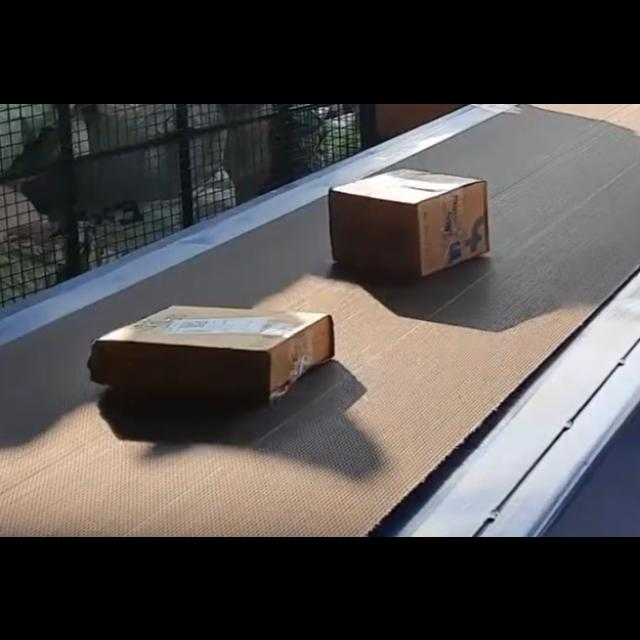box: (88, 302, 336, 391), (326, 168, 492, 272)
